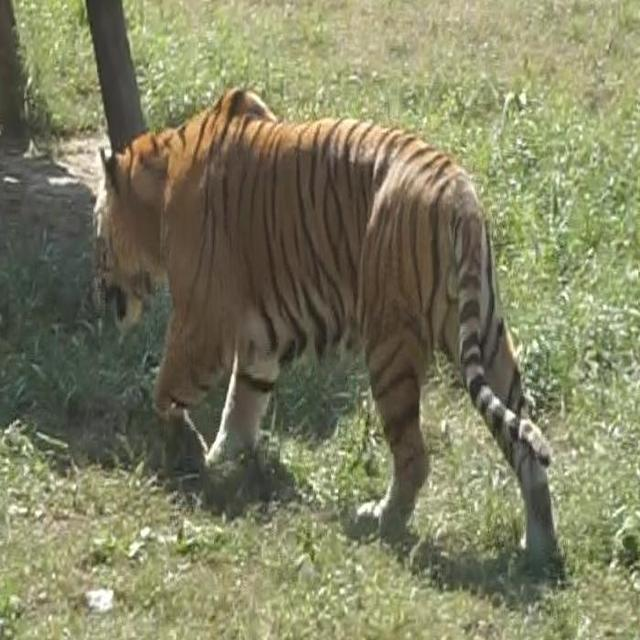tiger: (76, 73, 600, 581)
